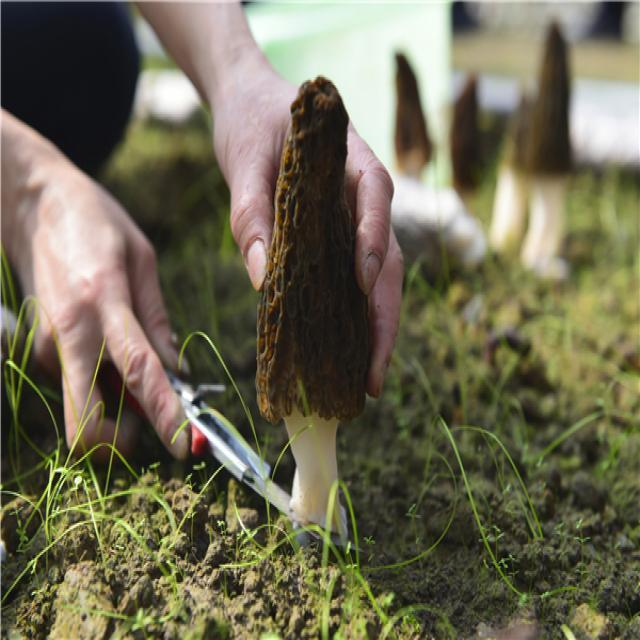Morchella esculenta: (256, 80, 367, 531), (491, 15, 576, 274), (389, 54, 433, 182)
